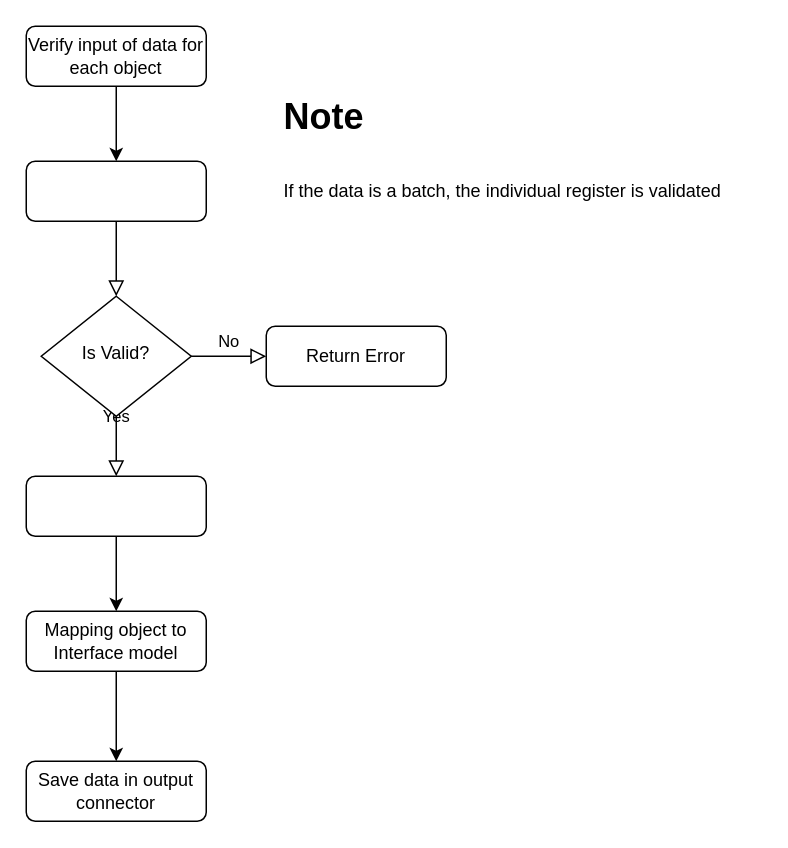
Image size: 788x848. Some labels were removed from this diagram. The centre of each missing label's shape, as x and y in pixels:
Made formulas with fields: the point at 115,505
Receive Data from connector: the point at 115,190
